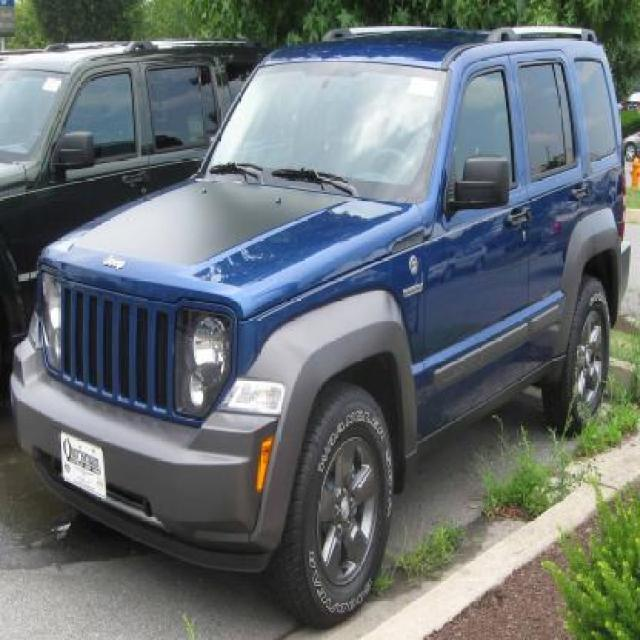Jeep: (9, 29, 629, 626)
